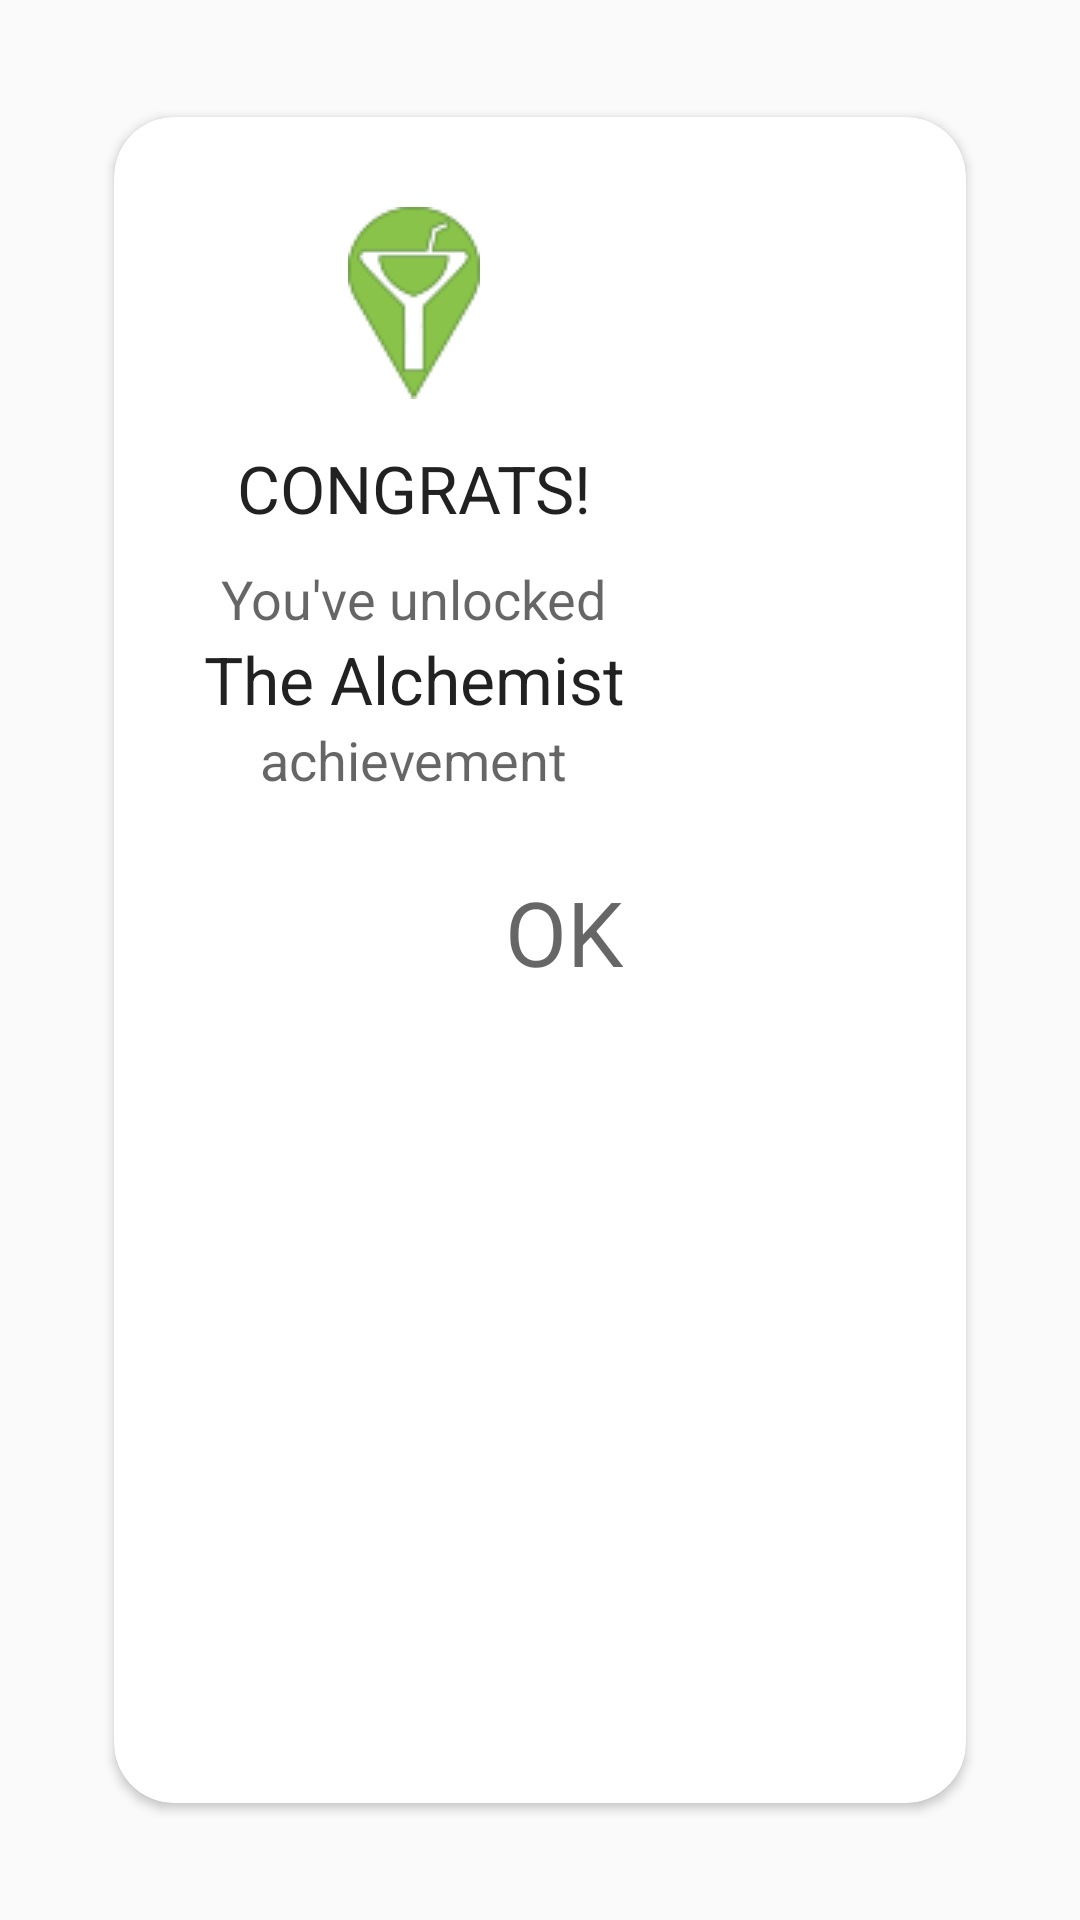

Icons on this 1080×1920 Android screen, each with the point to tap as [x,y]:
marker fun: [414,303]
